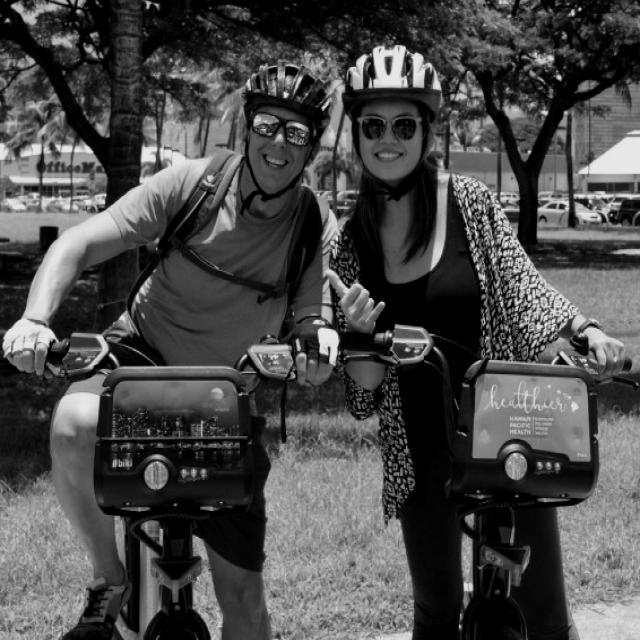Helmet: (336, 37, 450, 190), (241, 51, 330, 202)
